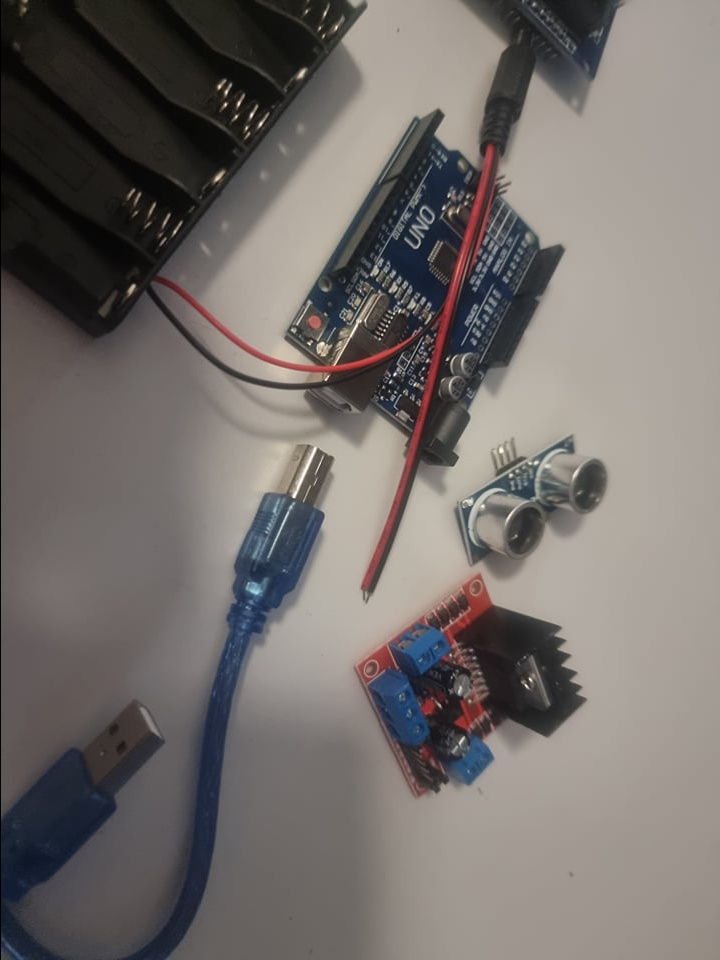BATTERY BOX: (0, 1, 369, 341)
MOTOR: (351, 580, 595, 809)
SENSOR: (457, 435, 621, 568)
UNO R3: (282, 111, 565, 468)
